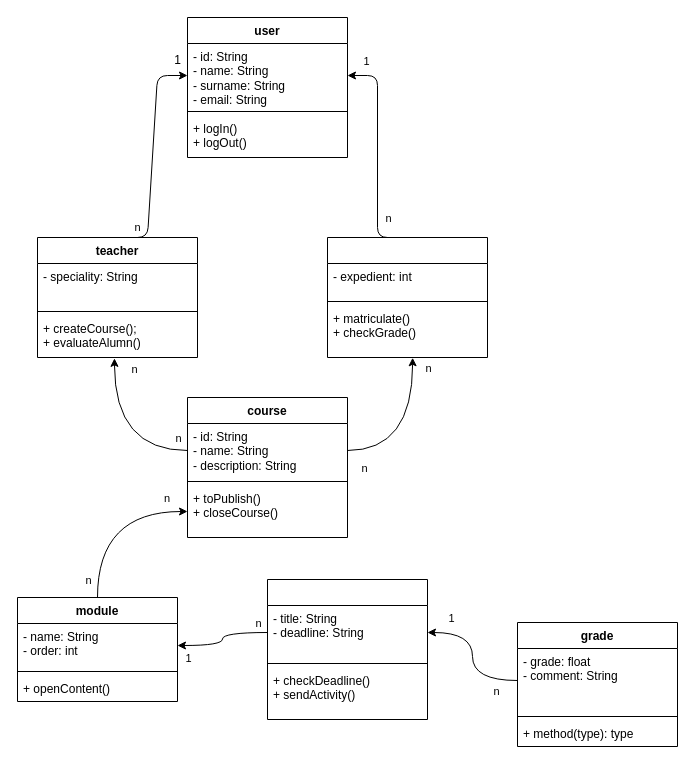
Image size: 695x767. Some labels were removed from this diagram. The box of each missing label's shape, as (x1, y1, x2, y2) in pixels:
activities: (266, 578, 428, 720)
student: (326, 236, 488, 358)
